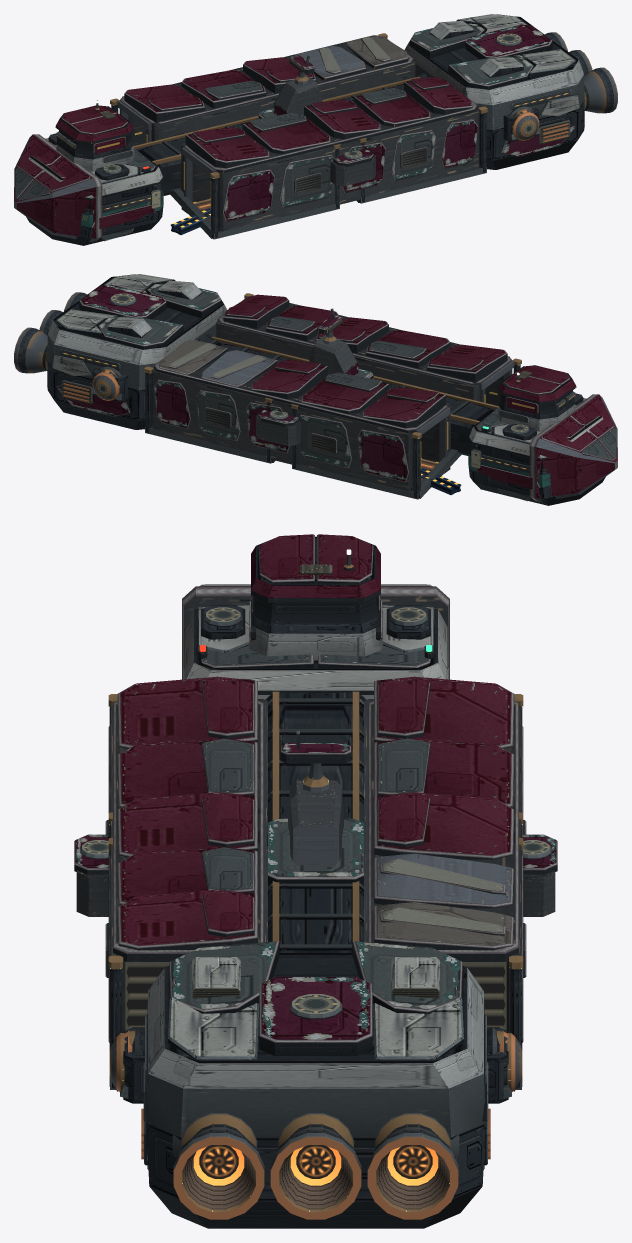
The model's file is rookery.glb.
3 renders of one model, top to bottom at view 1: azimuth 30°, elevation 25°; view 2: azimuth 150°, elevation 25°; view 3: azimuth 270°, elevation 25°, orthographic. The views are drawn at different scales.
Visible parts, largest first — view 1: hull plating, bay_port plating, bay_starboard plating, mast plating, engine_port plating, generator_port plating; view 2: hull plating, bay_starboard plating, bay_port plating, mast plating, engine_starboard plating, generator_starboard plating; view 3: hull plating, bay_port plating, bay_starboard plating, mast plating, engine_port plating, engine_starboard plating, engine_centre plating, generator_port plating, generator_starboard plating.
Boxes of the visible parts, x1=… form: hull plating: x1=14, y1=14, x2=584, y2=245; bay_port plating: x1=170, y1=77, x2=479, y2=234; bay_starboard plating: x1=117, y1=35, x2=415, y2=145; mast plating: x1=258, y1=55, x2=322, y2=118; engine_port plating: x1=583, y1=67, x2=617, y2=113; generator_port plating: x1=509, y1=106, x2=540, y2=140; hull plating: x1=47, y1=274, x2=617, y2=505; bay_starboard plating: x1=152, y1=339, x2=461, y2=494; bay_port plating: x1=216, y1=294, x2=514, y2=405; mast plating: x1=309, y1=308, x2=373, y2=378; engine_starboard plating: x1=14, y1=327, x2=48, y2=373; generator_starboard plating: x1=91, y1=366, x2=122, y2=400; hull plating: x1=108, y1=534, x2=523, y2=1228; bay_port plating: x1=74, y1=676, x2=267, y2=1042; bay_starboard plating: x1=364, y1=676, x2=557, y2=1042; mast plating: x1=268, y1=730, x2=363, y2=885; engine_port plating: x1=172, y1=1113, x2=264, y2=1219; engine_starboard plating: x1=367, y1=1113, x2=459, y2=1219; engine_centre plating: x1=270, y1=1113, x2=361, y2=1219; generator_port plating: x1=109, y1=1027, x2=144, y2=1098; generator_starboard plating: x1=487, y1=1027, x2=522, y2=1098.
Size of what is drawn, in the model's own units: 2.08 by 0.4594 by 0.7667.
2 materials, 2 textured.
